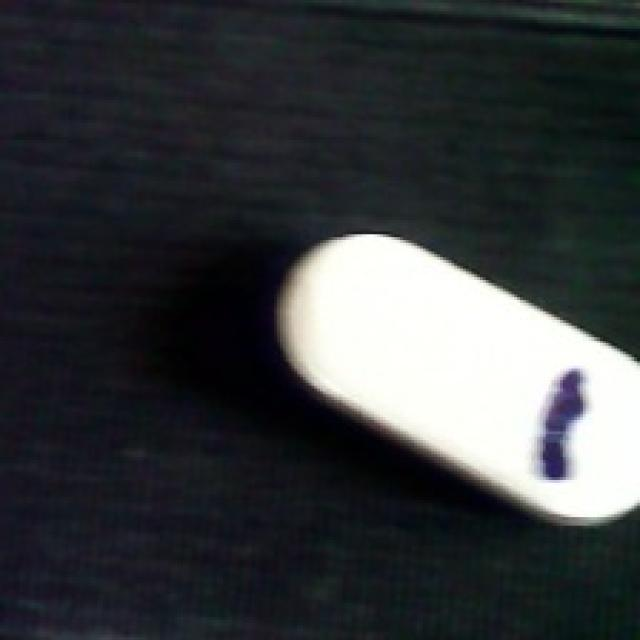defected: (269, 231, 637, 534)
